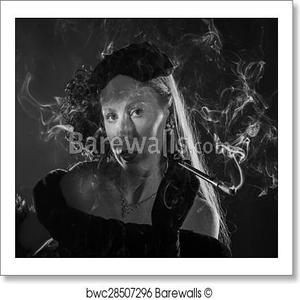cigarette: (199, 173, 240, 198)
